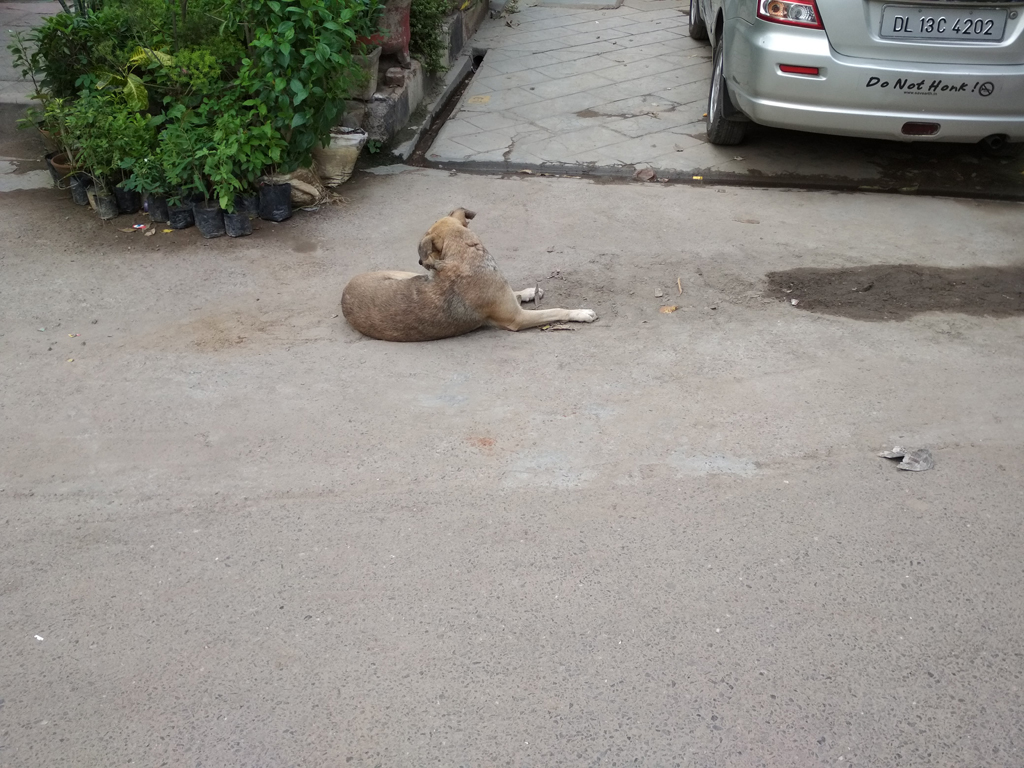dog: (342, 208, 594, 344)
